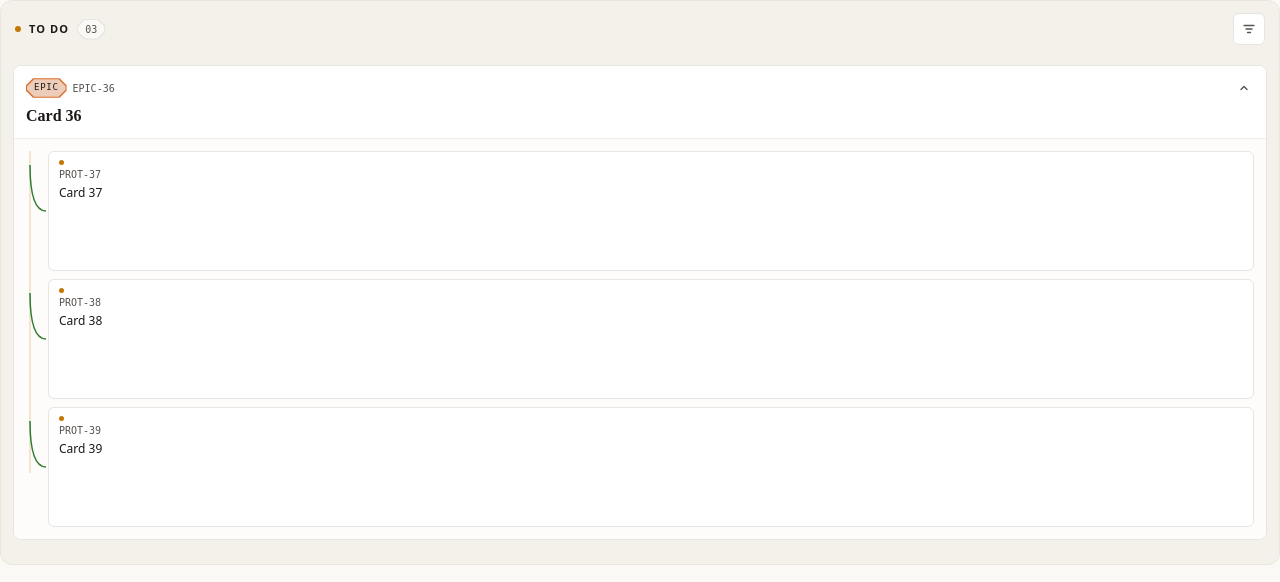
Column › renumbers when an accordion collapses
What coordinates should you click on to do the following:
click the button named "Collapse child tickets"
I would click on:
 (1244, 88)
Its box is [1234,78,1254,98].
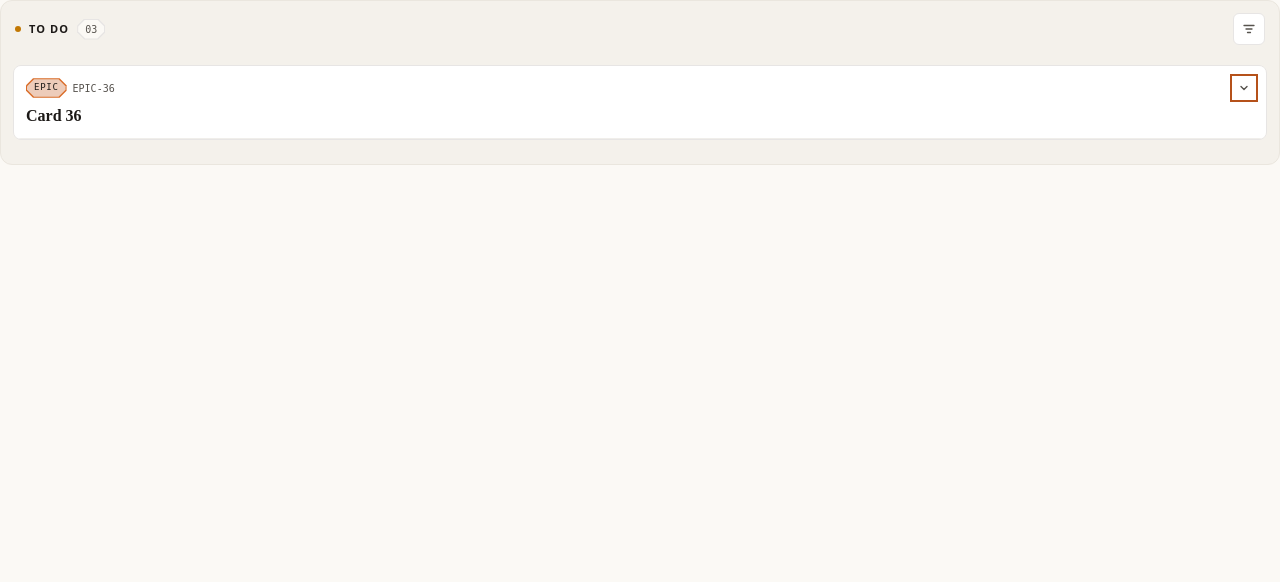
Result: the button named "Expand child tickets" is collapsed at [1234,78,1254,98]
